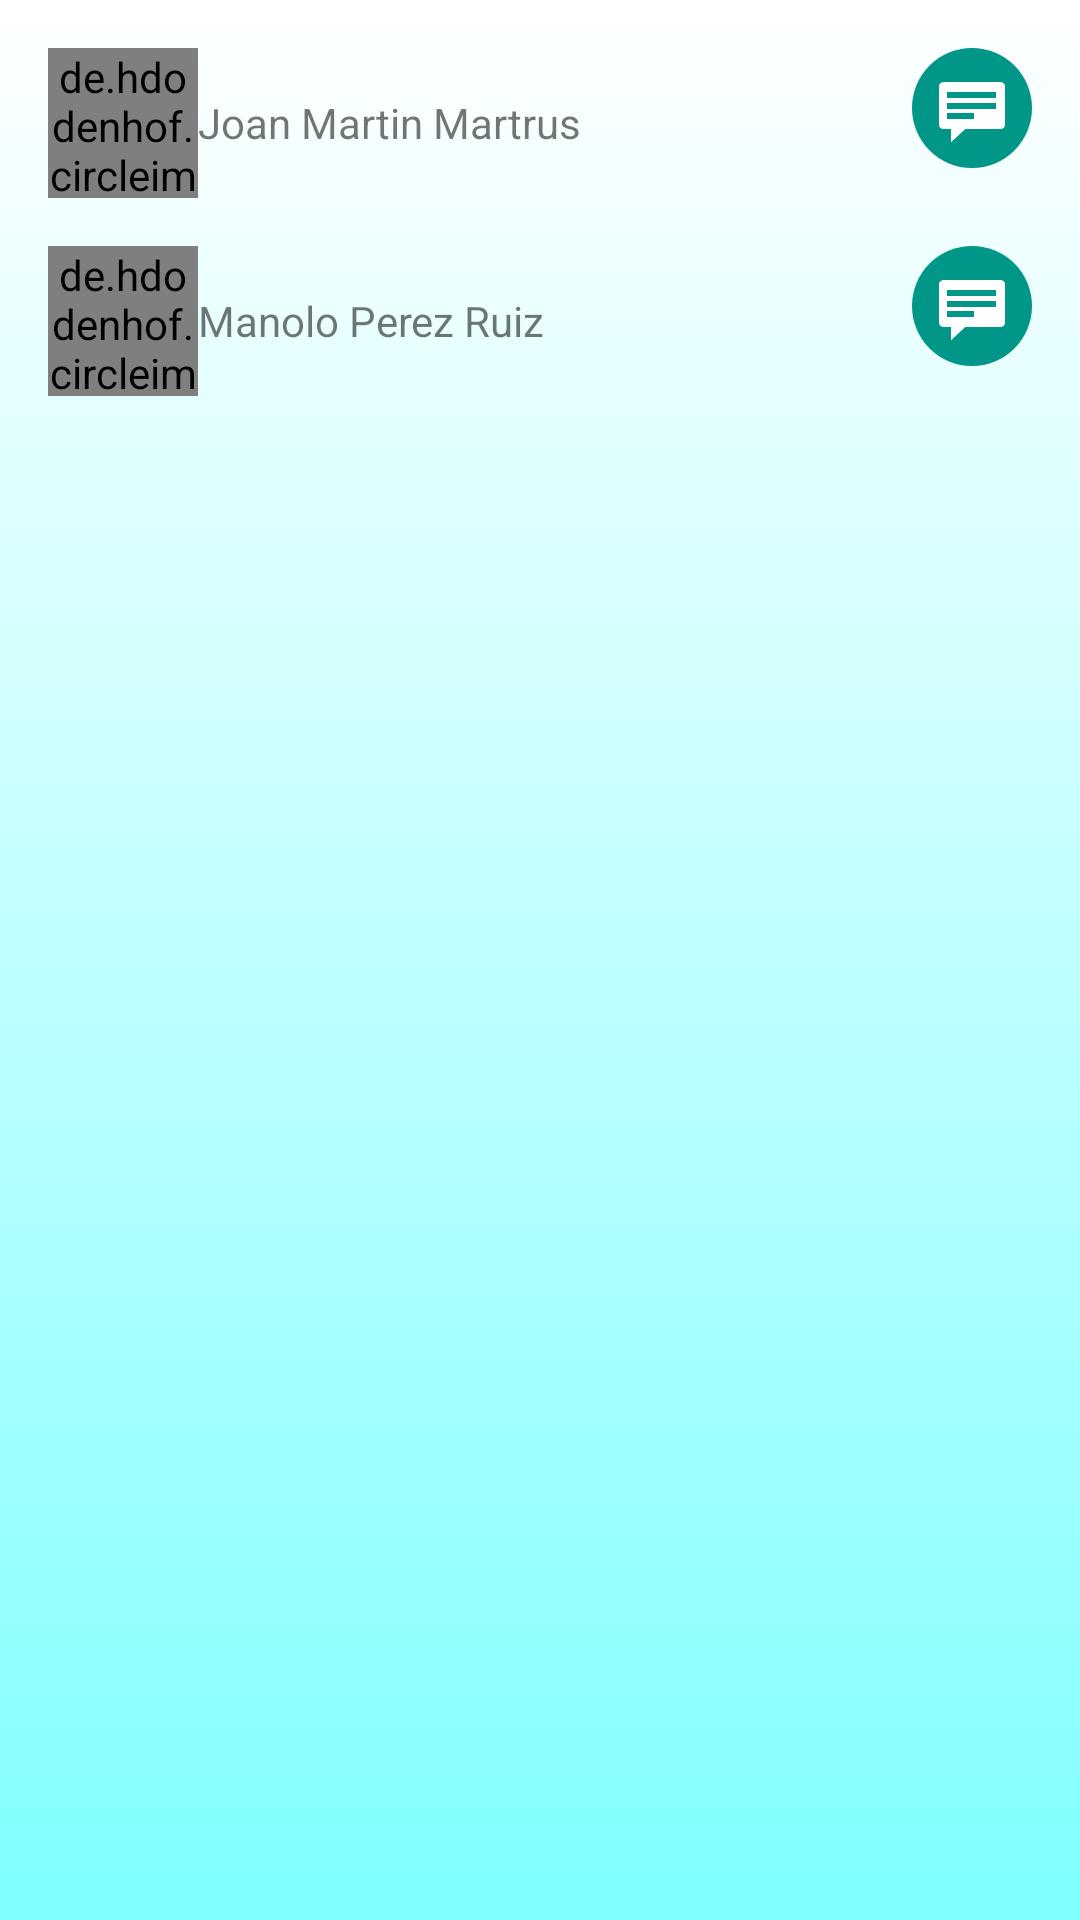

Point at icon controls on the screen. Image size 1080px x 1920px, points as point (x, y).
chat: point (972, 108), point (972, 306)
